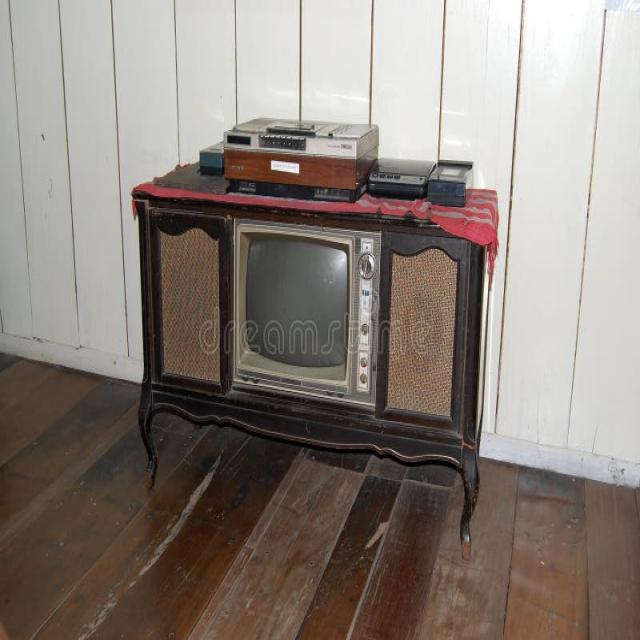electronics: (134, 184, 486, 556), (234, 219, 380, 404), (200, 117, 472, 206), (223, 117, 472, 206), (378, 233, 470, 416), (243, 232, 349, 379), (156, 158, 472, 206), (150, 213, 226, 385), (224, 117, 378, 188), (154, 162, 364, 201), (224, 147, 375, 189), (224, 117, 378, 156), (350, 232, 380, 403), (367, 158, 472, 206), (229, 179, 364, 201), (367, 158, 435, 197), (154, 162, 226, 191), (427, 161, 472, 206), (200, 141, 222, 173), (382, 232, 387, 243), (326, 371, 332, 377), (430, 235, 434, 241), (300, 205, 303, 211), (208, 177, 214, 178), (148, 301, 150, 304), (382, 265, 384, 266), (275, 451, 277, 452), (282, 371, 283, 372), (142, 270, 144, 270)
